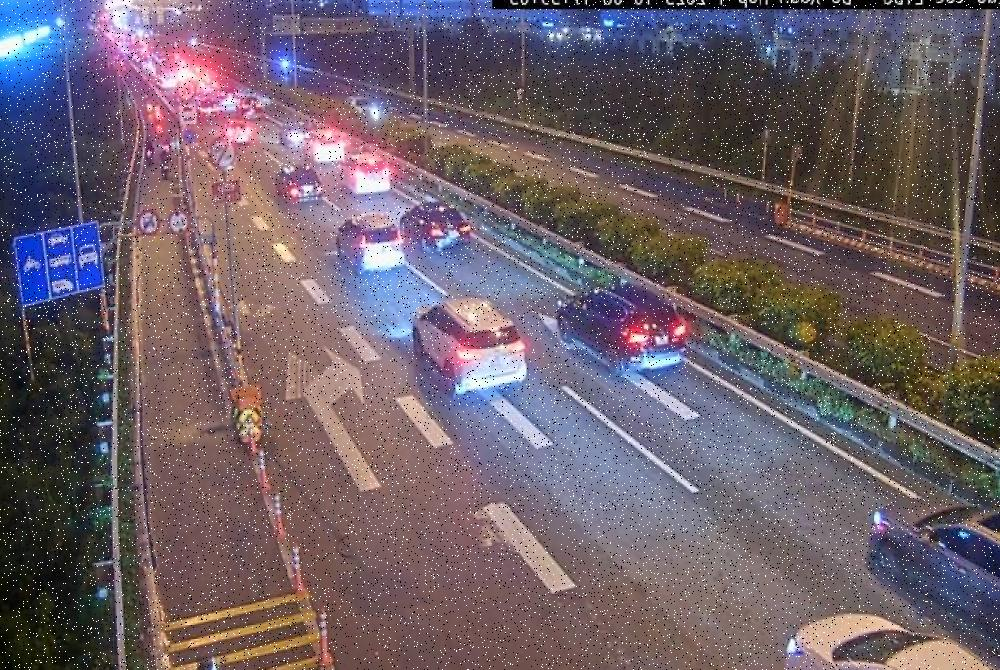car: (864, 496, 1000, 649), (784, 608, 1000, 670), (556, 282, 687, 376), (409, 294, 526, 393), (335, 214, 402, 277), (400, 200, 467, 254), (336, 149, 392, 197), (275, 160, 322, 208), (307, 128, 347, 166)
